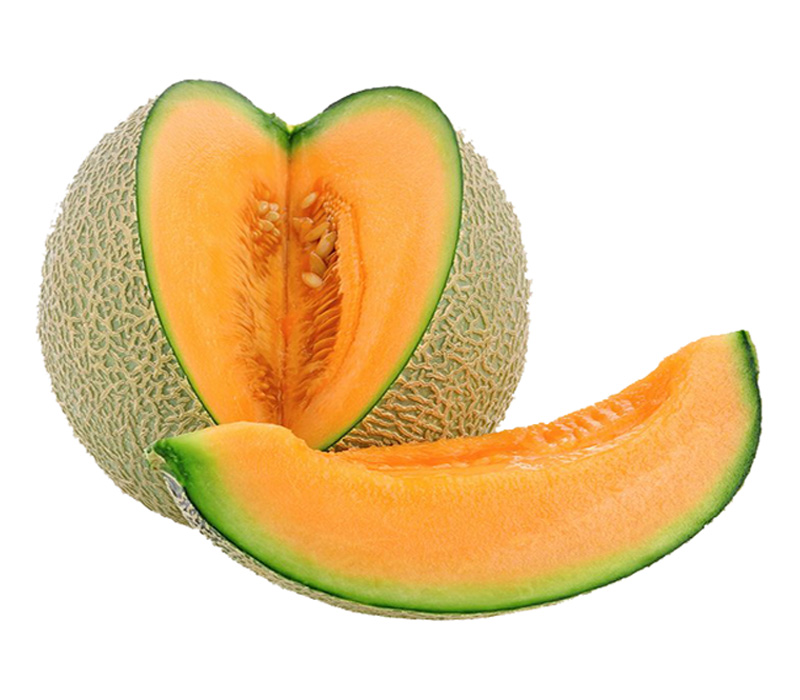Melon: (152, 316, 781, 699)
